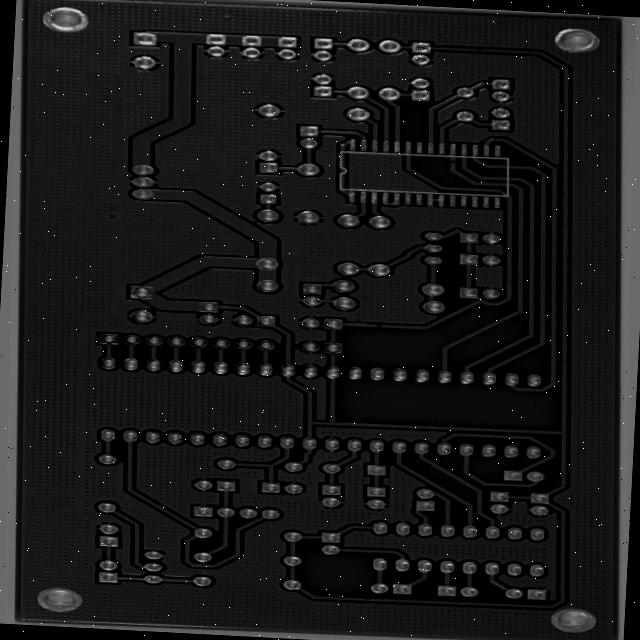open_circuit: (484, 43, 503, 53), (374, 321, 387, 330), (457, 157, 469, 165)
